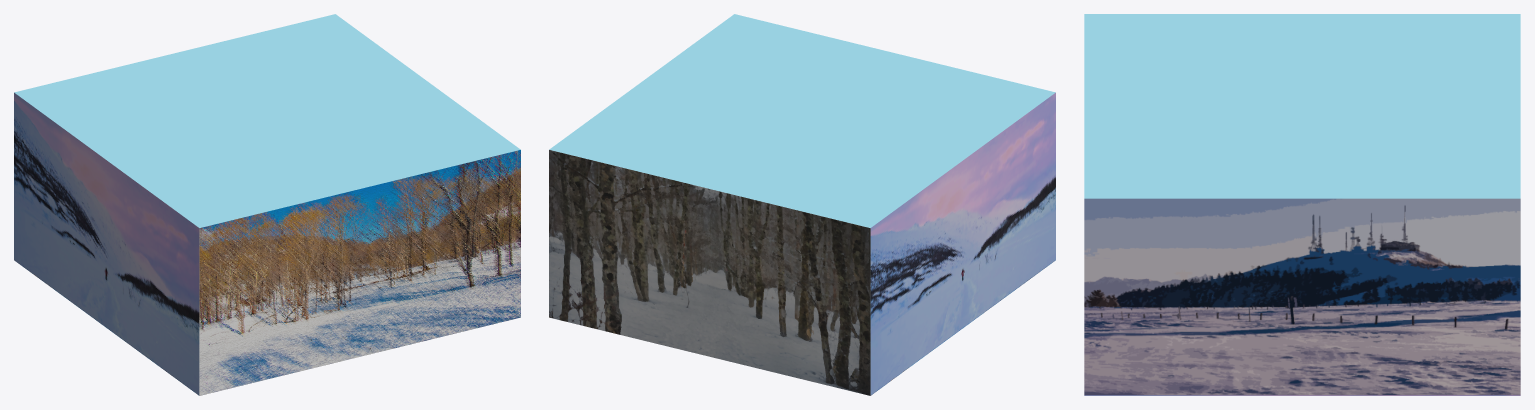
Rendered from winter_room_center.glb.
3 renders of one model, left to right at view 1: azimuth 30°, elevation 25°; view 2: azimuth 150°, elevation 25°; view 3: azimuth 270°, elevation 25°, orthographic. The views are drawn at different scales.
Parts seen in each view (by area): view 1: stage2.002; view 2: stage2.002; view 3: stage2.002.
Part boxes in pixels (x1,y1,x2,y2): stage2.002: (14,14,520,395); stage2.002: (549,14,1055,395); stage2.002: (1084,14,1520,395).
Bounding box in the file's own units: 8.01 × 3.99 × 8.
Materials: 1 (1 with a texture image).
